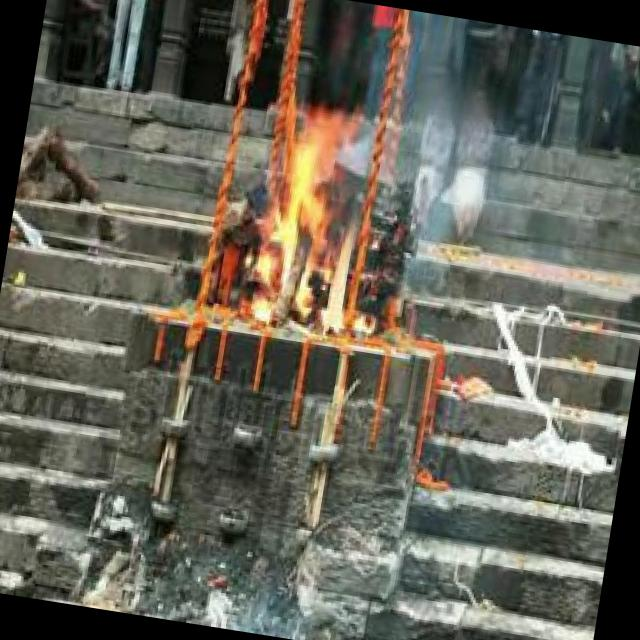Fire: (245, 98, 385, 341)
